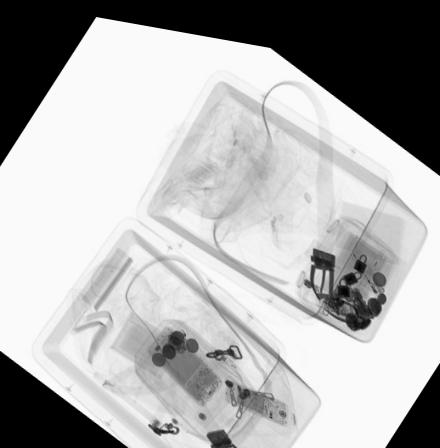Lighter: (348, 236, 385, 282)
